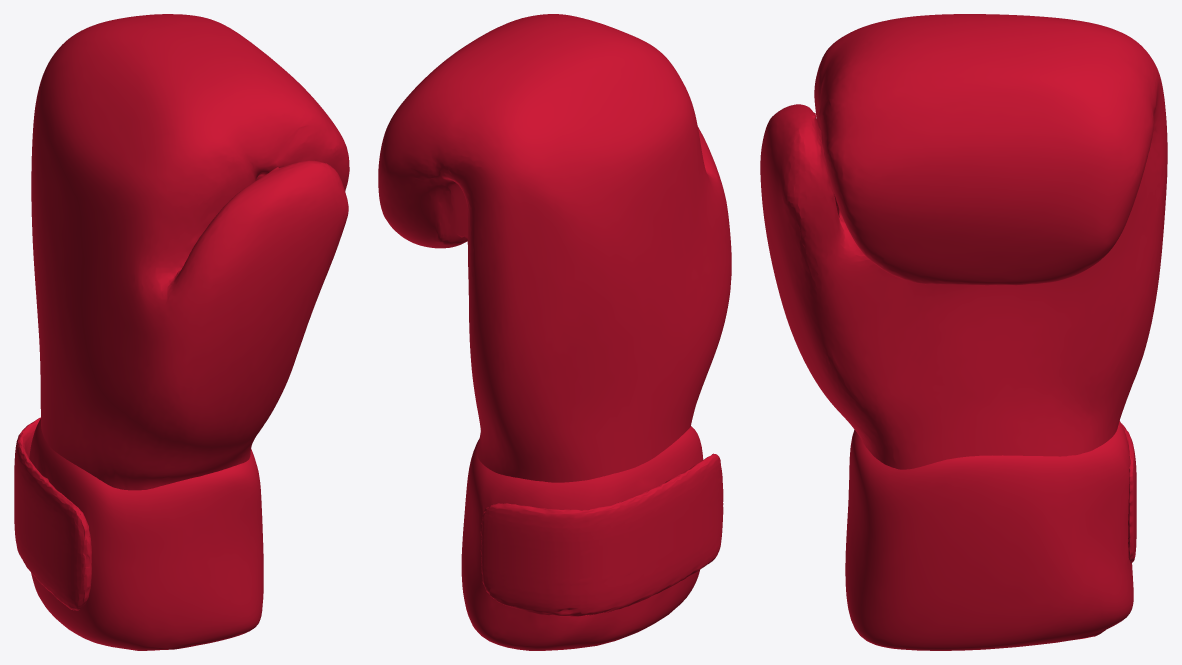
Rendered from glove.glb.
3 views of the same model, side by side, from view 1: azimuth 30°, elevation 25°; view 2: azimuth 150°, elevation 25°; view 3: azimuth 270°, elevation 25° (orthographic). The views are drawn at different scales.
Parts seen in each view (by area): view 1: glove; view 2: glove; view 3: glove.
Boxes of the visible parts, <box> form: glove: <box>14,14,349,650</box>; glove: <box>378,14,731,650</box>; glove: <box>760,14,1167,650</box>.
Bounding box in the file's own units: 0.4924 × 1 × 0.6086.
